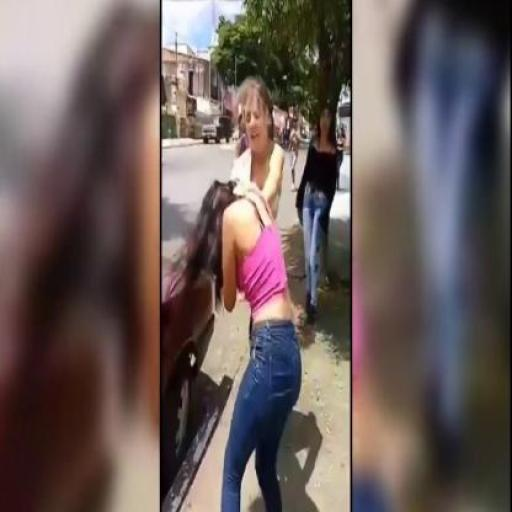Fighting: (164, 79, 346, 512)
